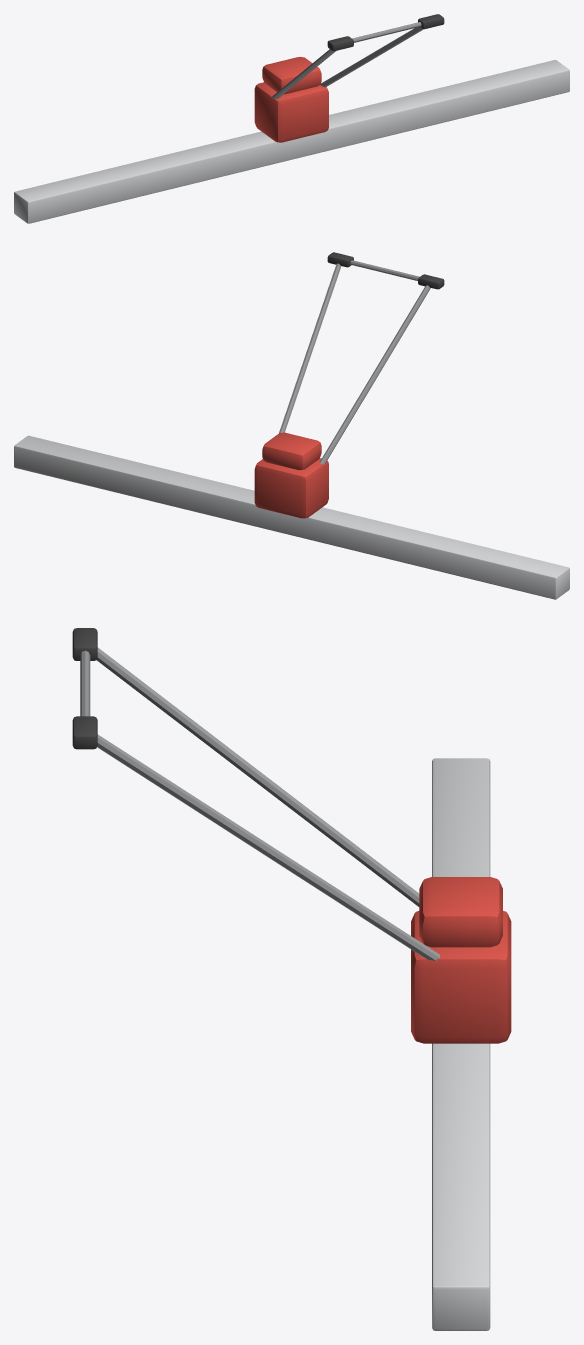
The model's file is EQP-CON-003_anim.glb.
3 views of the same model, one above another, from view 1: azimuth 30°, elevation 25°; view 2: azimuth 150°, elevation 25°; view 3: azimuth 270°, elevation 25° (orthographic). The views are drawn at different scales.
Parts seen in each view (by area): view 1: EQP-CON-003_anim0; view 2: EQP-CON-003_anim0; view 3: EQP-CON-003_anim0.
Part boxes in pixels (<box>): EQP-CON-003_anim0: <box>14,14,569,223</box>; EQP-CON-003_anim0: <box>14,252,569,599</box>; EQP-CON-003_anim0: <box>72,628,511,1330</box>.
Bounding box in the file's own units: 3 × 1.02 × 1.05.
